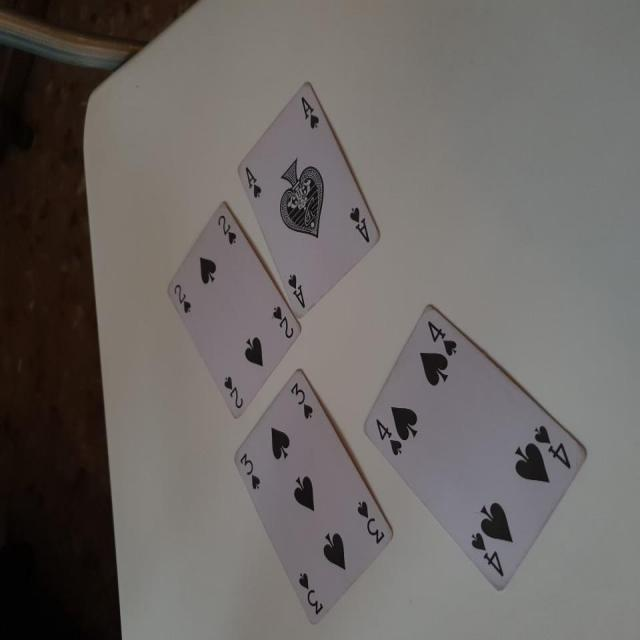2 of spades: (165, 204, 304, 418)
3 of spades: (233, 373, 391, 634)
4 of spades: (361, 305, 588, 593)
ace of spades: (238, 84, 380, 316)
